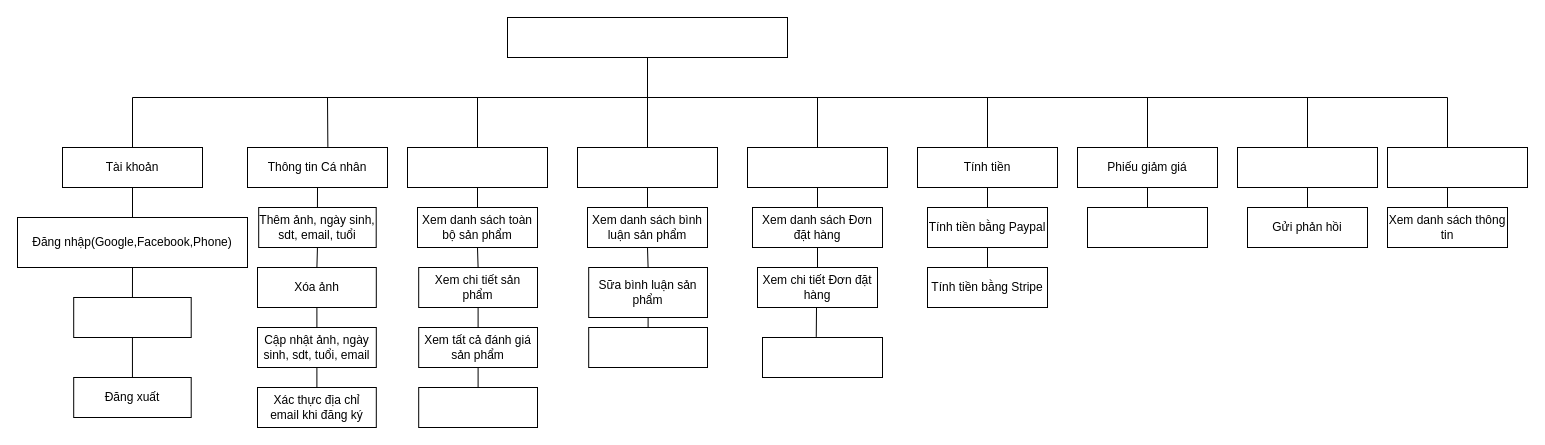
Image size: 1545x445. Some labels were removed from this diagram. The shapes that lost their labels are listed below. From the top down, each one's centre as x and y in pixels, then its label:
At [647,37]: "User".
At [477,167]: "Sản phẩm".
At [647,167]: "Bình luận".
At [817,167]: "Đơn đặt hàng".
At [1307,167]: "Phản hồi".
At [1457,167]: "Thông tin cửa hàng".
At [1147,227]: "Chọn phiếu giảm giá áp dụng".
At [132,317]: "Đăng ký".
At [648,347]: "Xóa bình luận".
At [822,357]: "Xóa Đơn đặt hàng".
At [478,407]: "Sort,Search sản phẩm".
